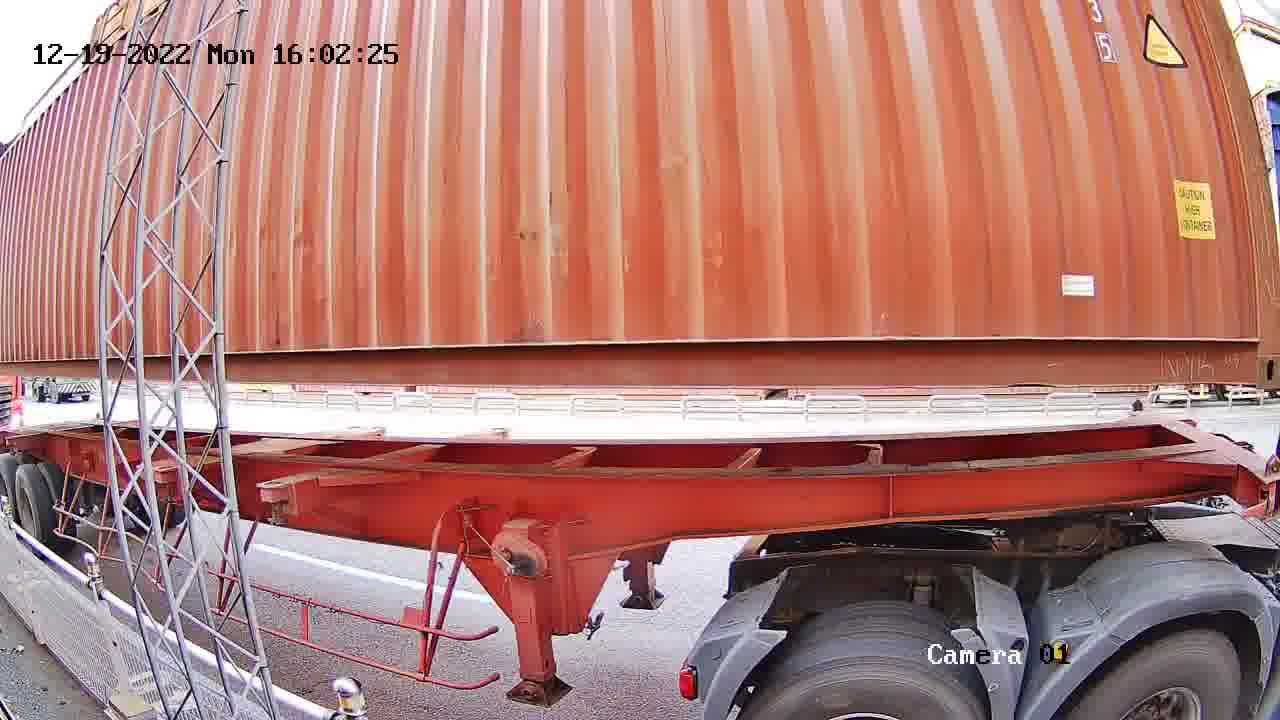Chassis: (1134, 408, 1279, 484)
Cone: (1259, 457, 1279, 523), (1127, 397, 1148, 416)
Hole_R: (1220, 315, 1279, 392)
Tire: (1074, 632, 1244, 717), (749, 658, 986, 718)
